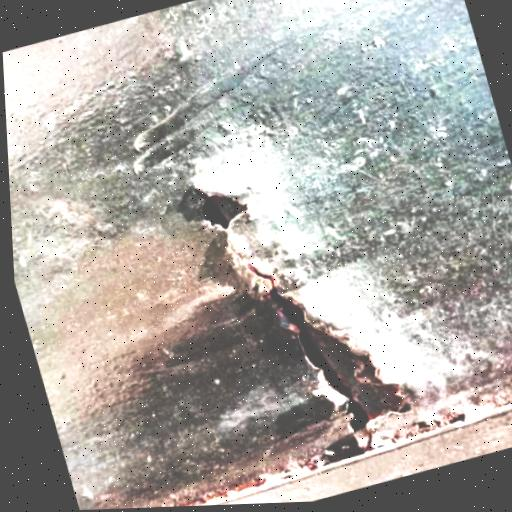crack: (180, 157, 379, 461)
